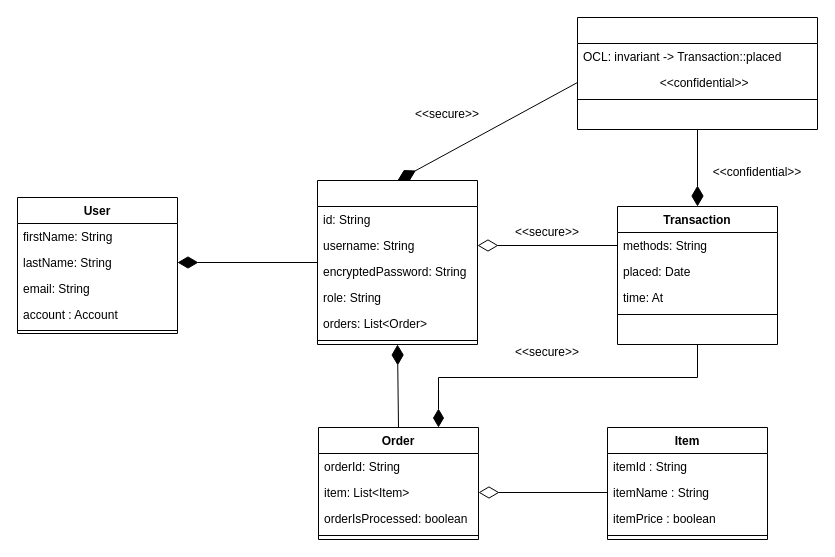
Image size: 835x557. Some labels were removed from this diagram. Here are the shapes that lost their labels. From the top down, the box of each, then its label:
(576, 16, 818, 130): Payments
(316, 180, 478, 344): Account
